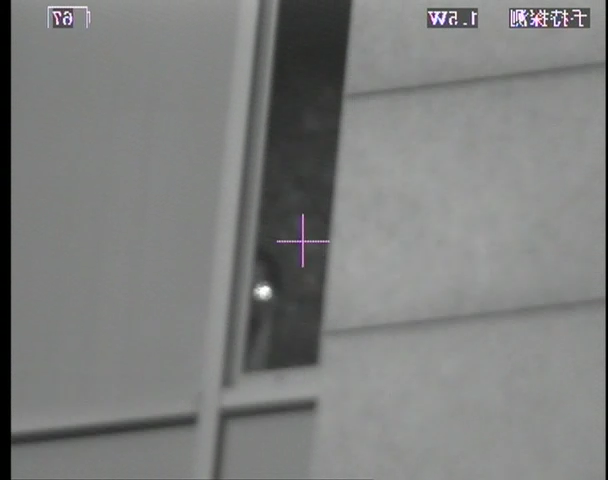my: (252, 282, 273, 299)
